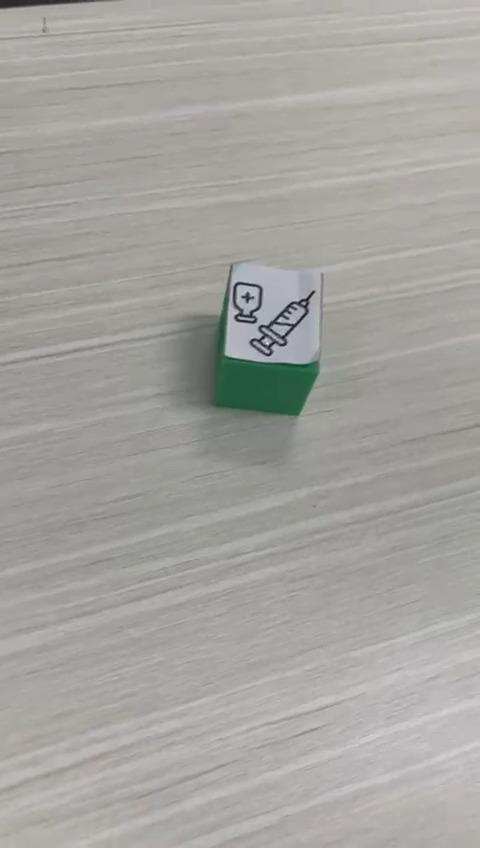antiseptic cream: (211, 258, 325, 416)
